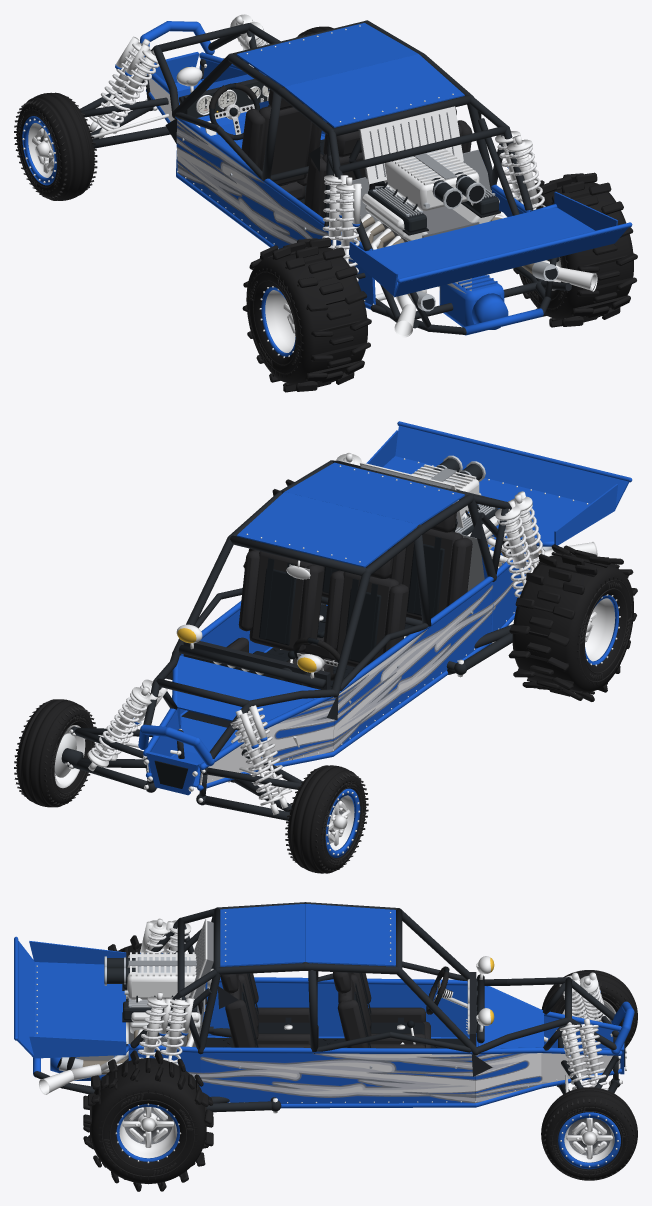
Rendered from sandcar.glb.
The picture shows the model from 3 angles, top to bottom: view 1: azimuth 30°, elevation 25°; view 2: azimuth 150°, elevation 25°; view 3: azimuth 270°, elevation 25°; orthographic projection. The views are drawn at different scales.
Visible parts, largest first — view 1: Chassis_Mesh, Wheel_RL_Mesh, Wheel_RR_Mesh, Wheel_FL_Mesh, Shock_FL_Mesh, Shock_RL_2_Mesh, Shock_RR_2_Mesh, Shock_FL_2_Mesh, SteeringWheel_Mesh, Shock_RL_Mesh, Link_FL_Lower_0, Shock_RR_Mesh (+1 smaller); view 2: Chassis_Mesh, Wheel_RL_Mesh, Wheel_FL_Mesh, Wheel_FR_Mesh, Shock_FR_2_Mesh, Shock_RL_Mesh, Shock_FL_2_Mesh, Shock_FL_Mesh, Shock_RL_2_Mesh, Link_FL_Lower_2, Link_FR_Lower_2, Link_RL_Lower_2 (+1 smaller); view 3: Chassis_Mesh, Wheel_RR_Mesh, Wheel_FR_Mesh, Wheel_FL_Mesh, Shock_RR_2_Mesh, Shock_RR_Mesh, Shock_FR_2_Mesh, Shock_FR_Mesh, Link_RR_Lower_2, Shock_RL_2_Mesh, Shock_FL_2_Mesh, SteeringWheel_Mesh (+2 smaller).
Part boxes in pixels (bbox=[...]): Chassis_Mesh: bbox=[140, 20, 632, 337]; Wheel_RL_Mesh: bbox=[242, 237, 371, 392]; Wheel_RR_Mesh: bbox=[513, 172, 637, 327]; Wheel_FL_Mesh: bbox=[14, 92, 97, 200]; Shock_FL_Mesh: bbox=[96, 43, 159, 138]; Shock_RL_2_Mesh: bbox=[334, 177, 361, 281]; Shock_RR_2_Mesh: bbox=[507, 135, 545, 210]; Shock_FL_2_Mesh: bbox=[89, 36, 150, 132]; SteeringWheel_Mesh: bbox=[209, 83, 260, 140]; Shock_RL_Mesh: bbox=[322, 174, 348, 253]; Link_FL_Lower_0: bbox=[92, 126, 170, 148]; Shock_RR_Mesh: bbox=[495, 131, 523, 204]; Chassis_Mesh: bbox=[138, 421, 632, 796]; Wheel_RL_Mesh: bbox=[508, 544, 637, 701]; Wheel_FL_Mesh: bbox=[285, 765, 368, 873]; Wheel_FR_Mesh: bbox=[14, 699, 96, 807]; Shock_FR_2_Mesh: bbox=[87, 686, 157, 771]; Shock_RL_Mesh: bbox=[495, 500, 533, 597]; Shock_FL_2_Mesh: bbox=[230, 710, 282, 814]; Shock_FL_Mesh: bbox=[247, 705, 291, 808]; Shock_RL_2_Mesh: bbox=[511, 491, 544, 575]; Link_FL_Lower_2: bbox=[196, 794, 289, 820]; Link_FR_Lower_2: bbox=[65, 760, 157, 792]; Link_RL_Lower_2: bbox=[454, 632, 512, 677]; Chassis_Mesh: bbox=[14, 902, 634, 1108]; Wheel_RR_Mesh: bbox=[83, 1050, 213, 1191]; Wheel_FR_Mesh: bbox=[541, 1087, 637, 1180]; Wheel_FL_Mesh: bbox=[541, 970, 637, 1047]; Shock_RR_2_Mesh: bbox=[137, 992, 172, 1058]; Shock_RR_Mesh: bbox=[160, 997, 193, 1065]; Shock_FR_2_Mesh: bbox=[578, 1018, 608, 1090]; Shock_FR_Mesh: bbox=[559, 1022, 590, 1089]; Link_RR_Lower_2: bbox=[206, 1098, 281, 1113]; Shock_RL_2_Mesh: bbox=[140, 918, 168, 953]; Shock_FL_2_Mesh: bbox=[579, 972, 608, 1022]; SteeringWheel_Mesh: bbox=[426, 966, 453, 1014].
Bounding box in the file's own units: 2.59 × 1.6 × 4.77.
26 materials, 2 textured.
